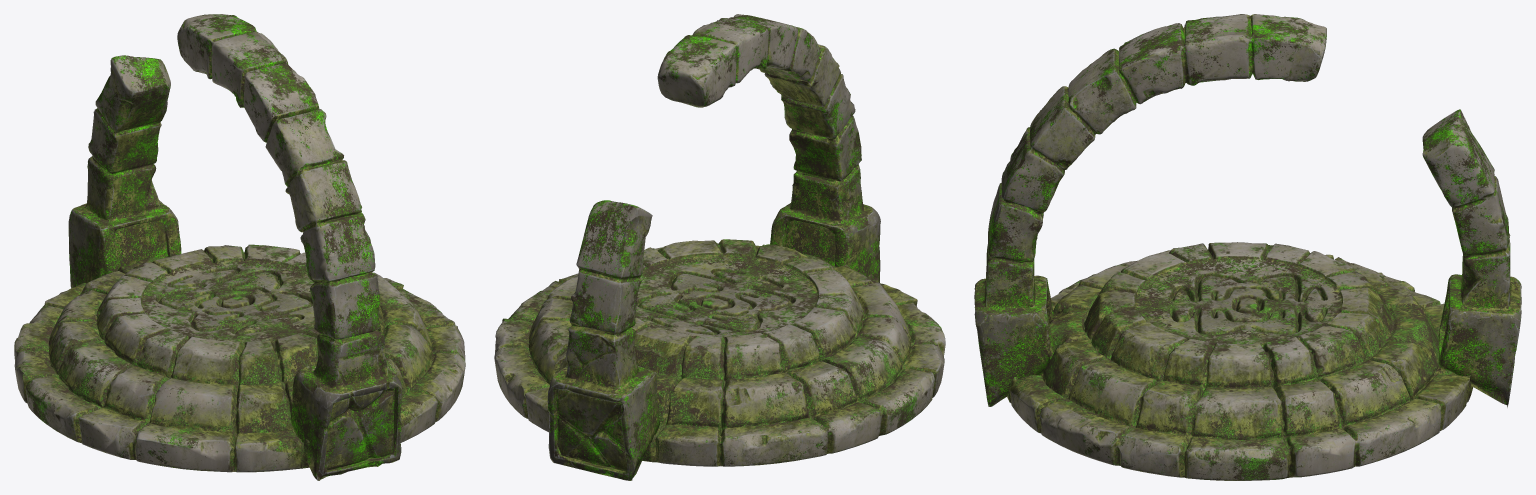
File: old_portal.glb
3 renders of one model, left to right at view 1: azimuth 30°, elevation 25°; view 2: azimuth 150°, elevation 25°; view 3: azimuth 270°, elevation 25°, orthographic. The views are drawn at different scales.
Visible parts, largest first — view 1: pCylinder18, pCylinder16; view 2: pCylinder18, pCylinder16; view 3: pCylinder18, pCylinder16.
Part boxes in pixels (<box>): pCylinder18: <box>14,244,465,472</box>; pCylinder16: <box>68,14,402,480</box>; pCylinder18: <box>494,239,945,466</box>; pCylinder16: <box>547,14,880,480</box>; pCylinder18: <box>1007,242,1473,480</box>; pCylinder16: <box>974,14,1521,407</box>.
Size of the model in its own units: 6.42 by 5.42 by 7.39.
Materials: 2 (2 with a texture image).
